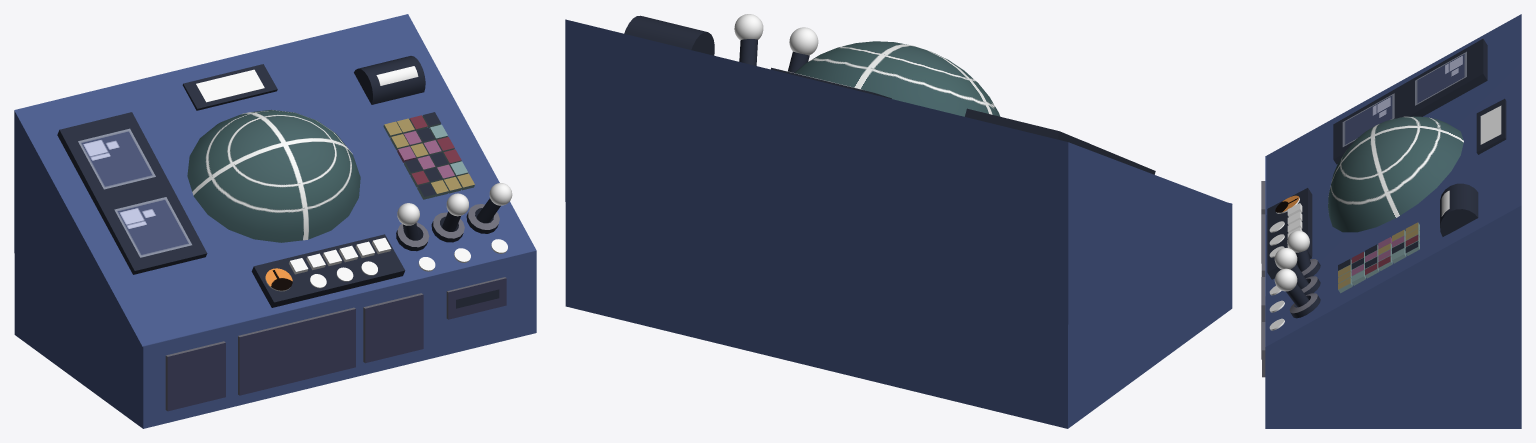
File: maquina1.obj
The picture shows the model from 3 angles, left to right: view 1: azimuth 30°, elevation 25°; view 2: azimuth 150°, elevation 25°; view 3: azimuth 270°, elevation 25°; orthographic projection. The views are drawn at different scales.
Visible parts, largest first — view 1: pCube7; view 2: pCube7; view 3: pCube7.
Part boxes in pixels (x1,y1,x2,y2): pCube7: (14, 14, 536, 428); pCube7: (565, 14, 1232, 428); pCube7: (1261, 14, 1521, 428).
Bounding box in the file's own units: 3 × 1.64 × 1.73.
Materials: 20 (17 with a texture image).
